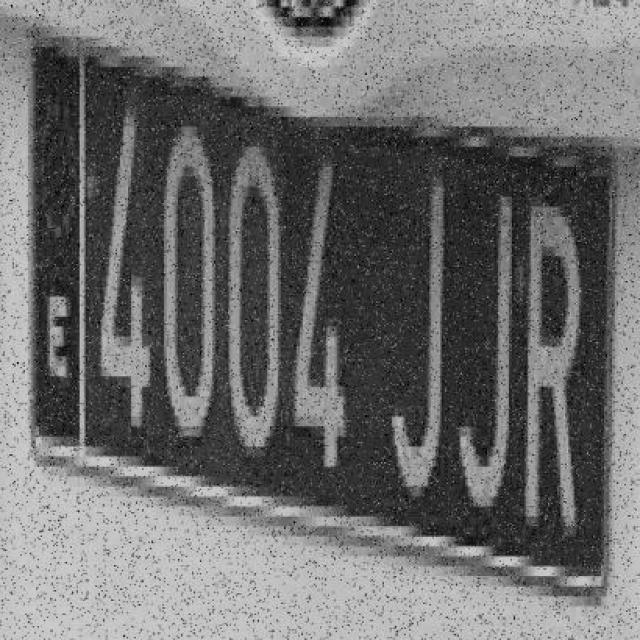licenseplate: (26, 19, 619, 603)
